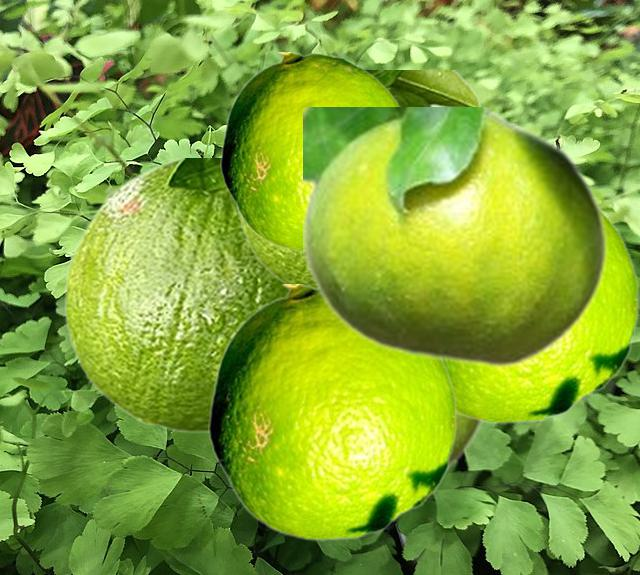dalandan: (303, 107, 608, 368), (208, 284, 456, 540), (63, 158, 286, 432), (235, 70, 480, 284), (446, 209, 638, 423), (220, 52, 401, 251), (448, 416, 487, 474)
